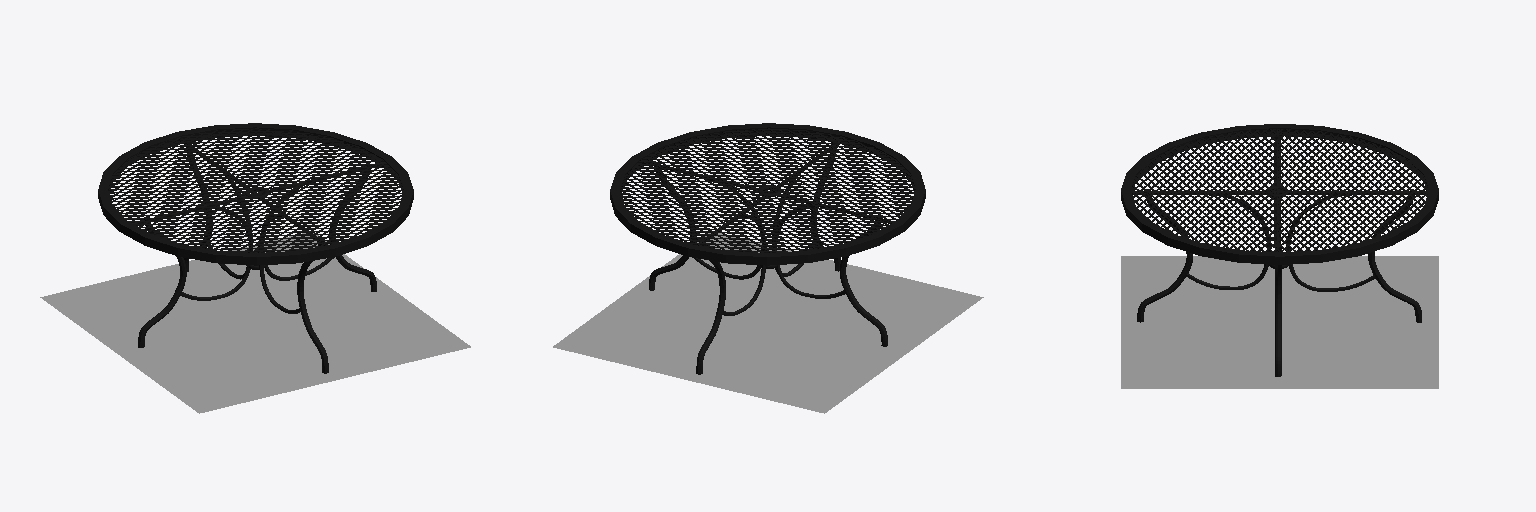
Rendered from Mesa.obj.
3 views of the same model, side by side, from view 1: azimuth 30°, elevation 25°; view 2: azimuth 150°, elevation 25°; view 3: azimuth 270°, elevation 25° (orthographic).
Parts seen in each view (by area): view 1: ground_1, blackdecktable_2; view 2: ground_1, blackdecktable_2; view 3: ground_1, blackdecktable_2.
Part boxes in pixels (x1,y1,x2,y2): ground_1: (40, 233, 470, 413); blackdecktable_2: (98, 123, 413, 373); ground_1: (553, 233, 983, 413); blackdecktable_2: (610, 123, 925, 374); ground_1: (1121, 256, 1438, 388); blackdecktable_2: (1121, 124, 1438, 376).
Bounding box in the file's own units: 155 × 72 × 157.